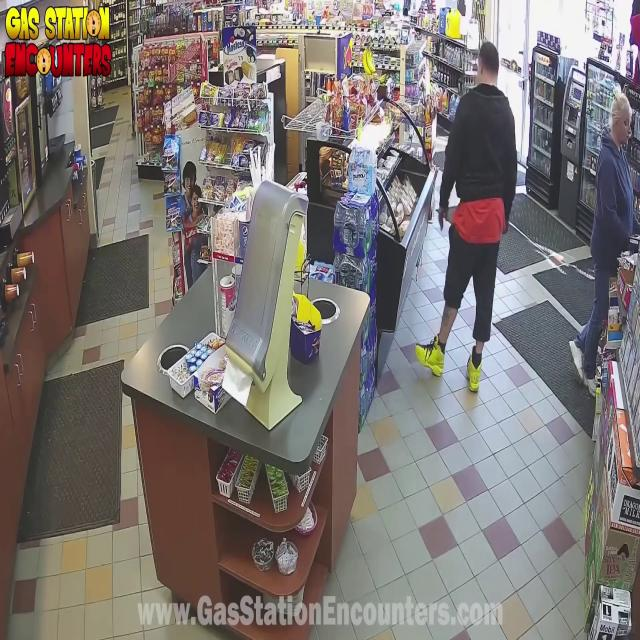normal: (412, 32, 549, 400), (591, 50, 640, 369)
